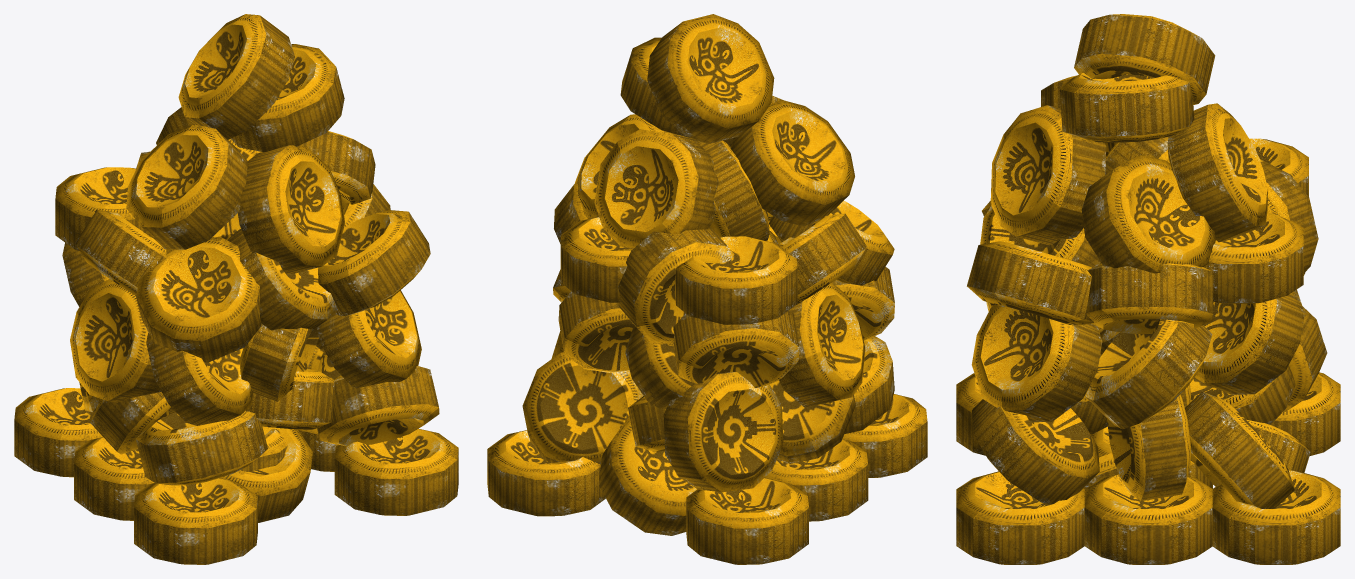
Rendered from PileOfCoiins.fbx.
3 views of the same model, side by side, from view 1: azimuth 30°, elevation 25°; view 2: azimuth 150°, elevation 25°; view 3: azimuth 270°, elevation 25° (orthographic). The views are drawn at different scales.
Visible parts, largest first — view 1: PileOfCoins; view 2: PileOfCoins; view 3: PileOfCoins.
Boxes of the visible parts, x1=… form: PileOfCoins: x1=14, y1=14, x2=458, y2=564; PileOfCoins: x1=487, y1=14, x2=927, y2=564; PileOfCoins: x1=956, y1=14, x2=1340, y2=564.
Size of the model in its own units: 92.72 by 136 by 94.62.
